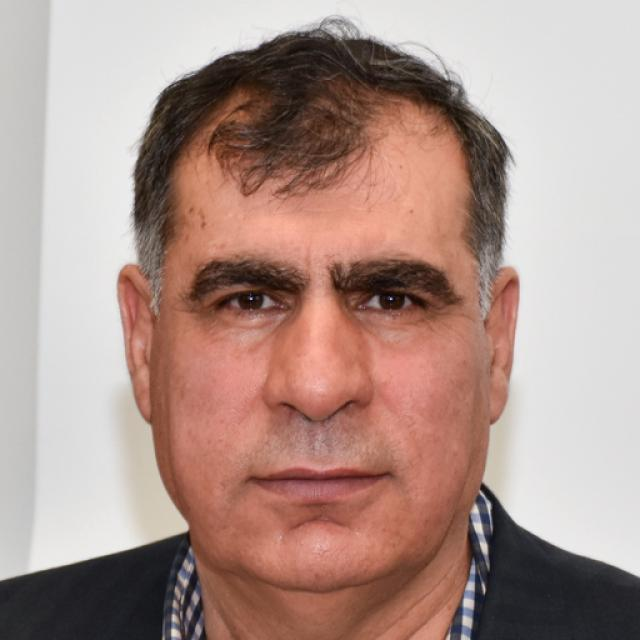neutral: (154, 105, 485, 590)
